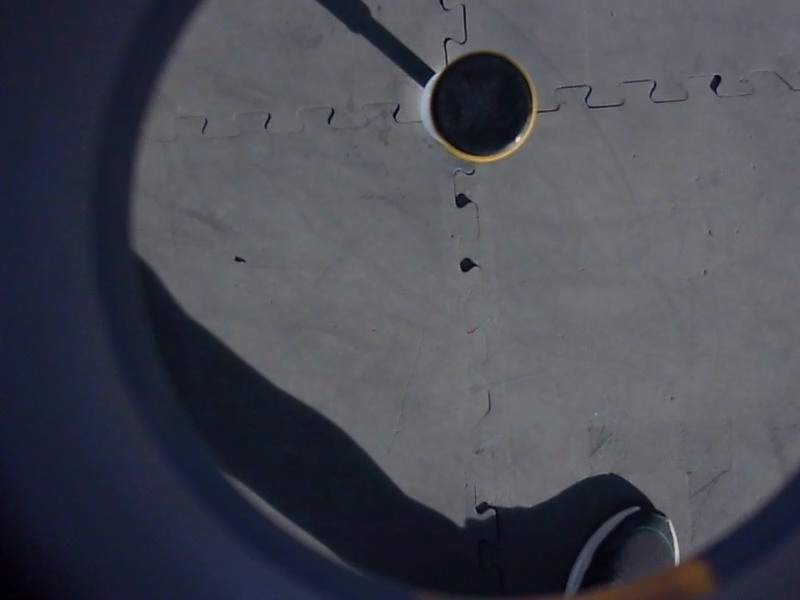tip: (418, 46, 545, 168)
